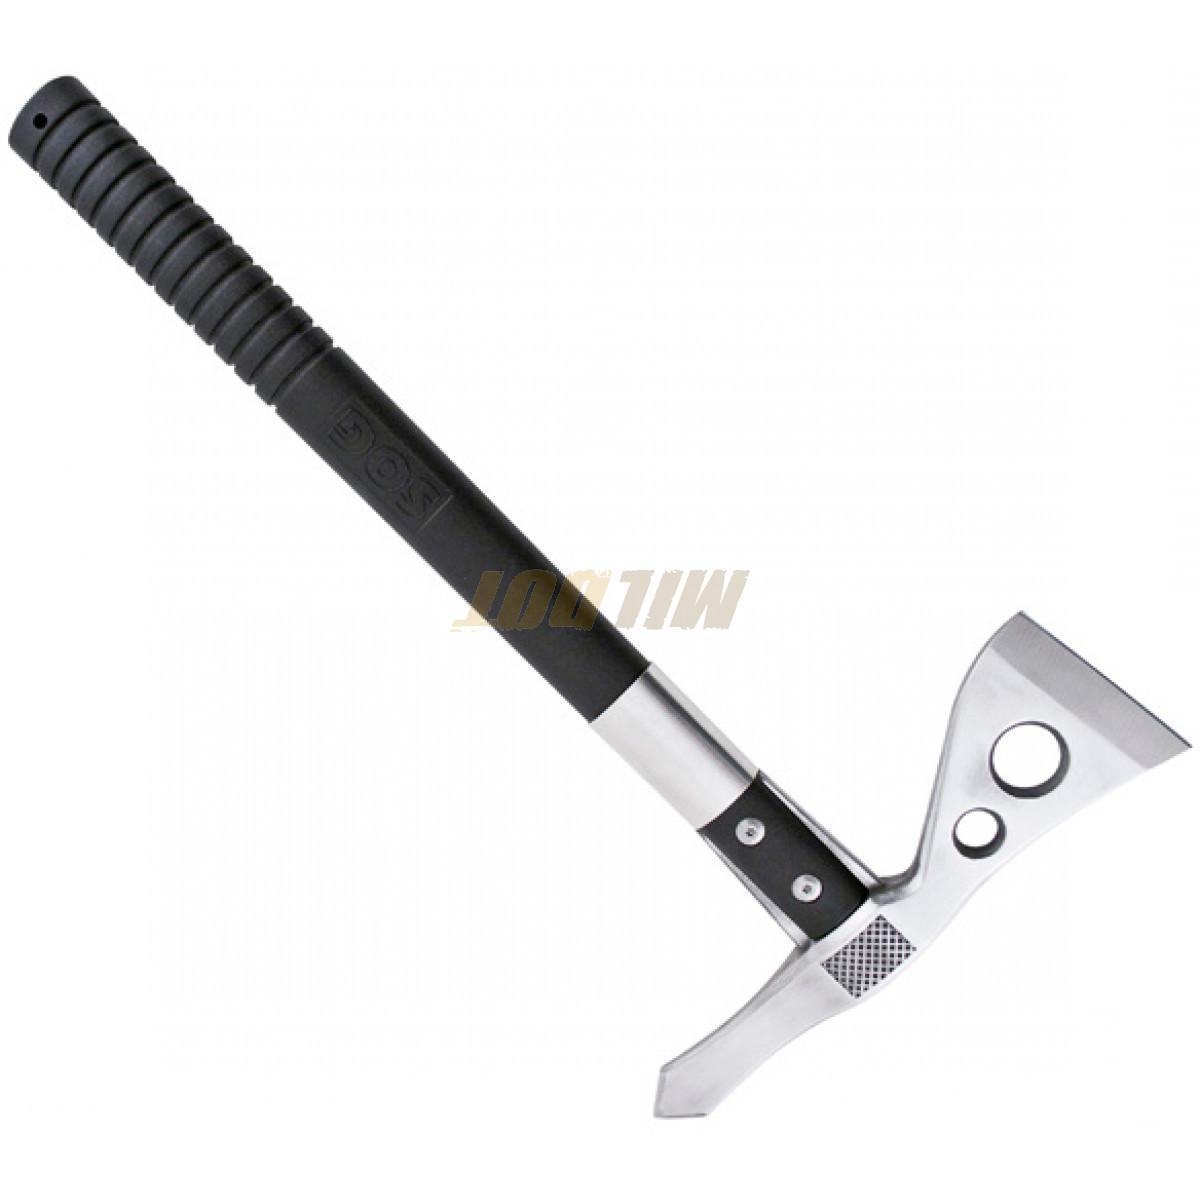machado: (11, 77, 1190, 1116)
